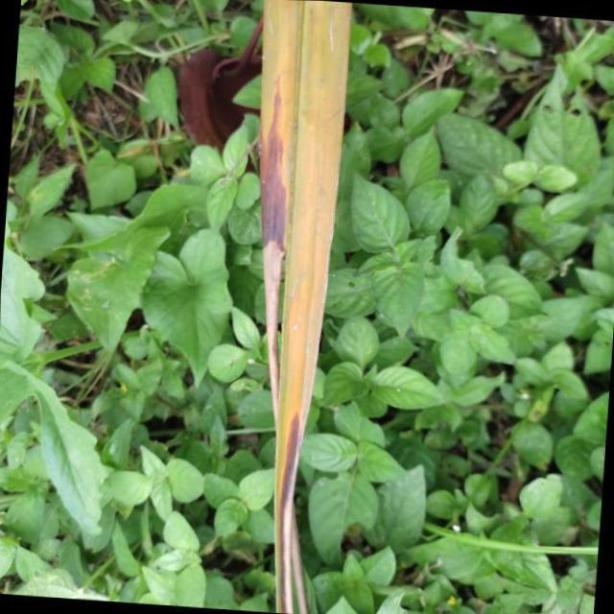Megnesium: (262, 0, 352, 614)
